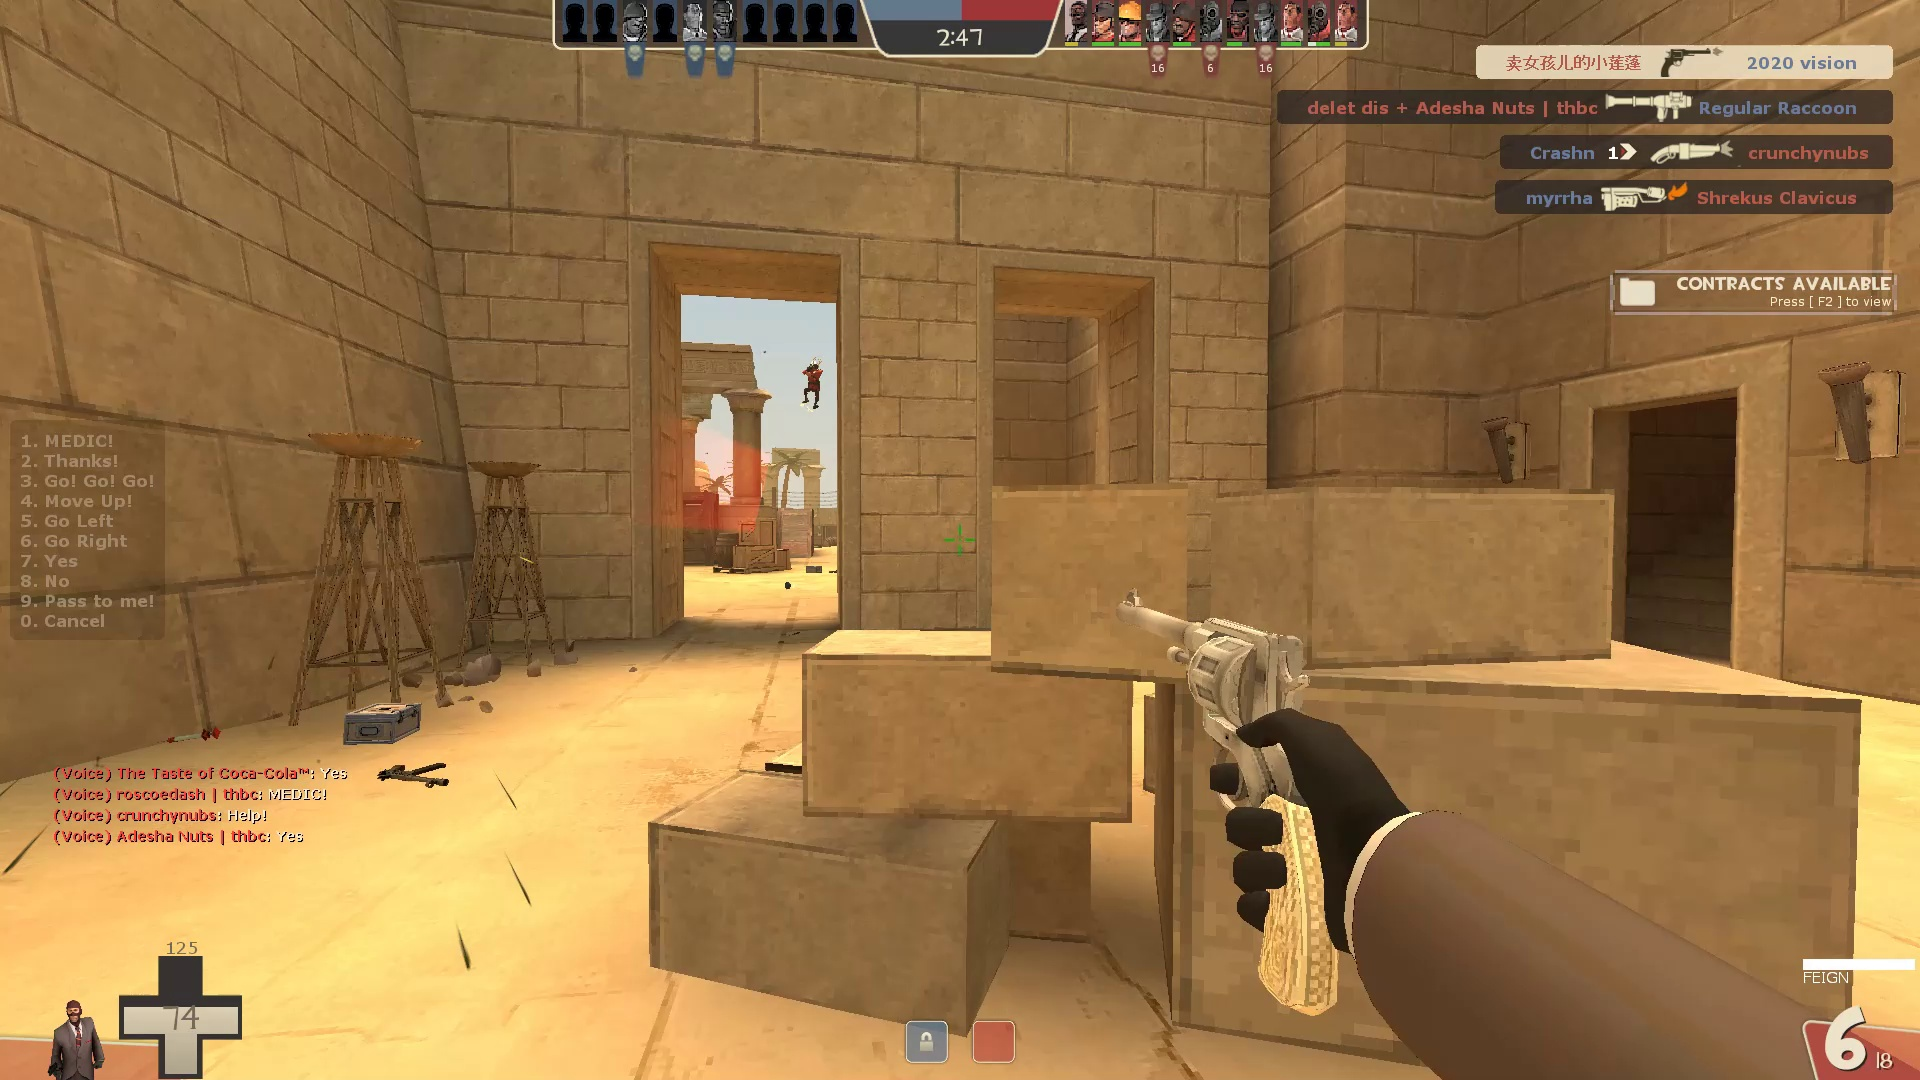red_soldier: (796, 356, 825, 415)
